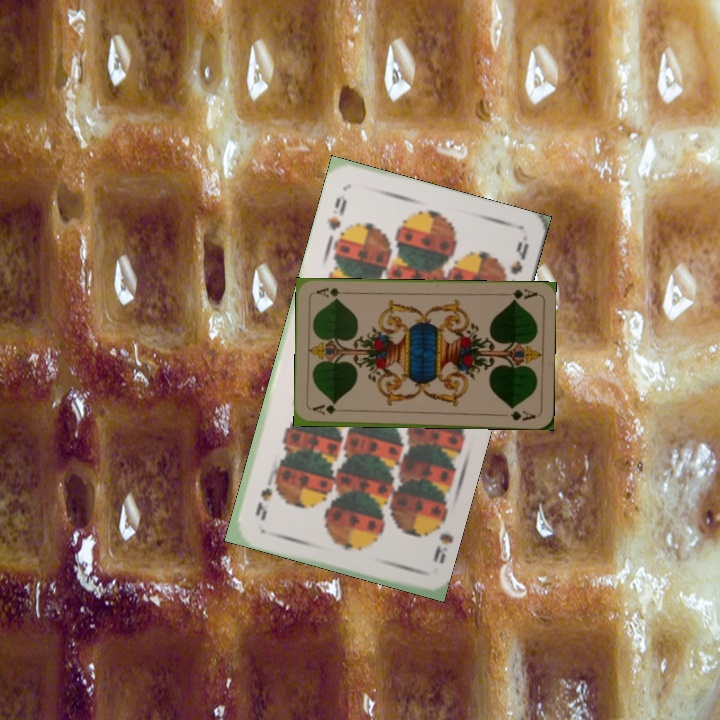GA: (499, 284, 539, 304), (309, 402, 349, 417)
S9: (426, 513, 454, 566), (323, 190, 350, 234)
